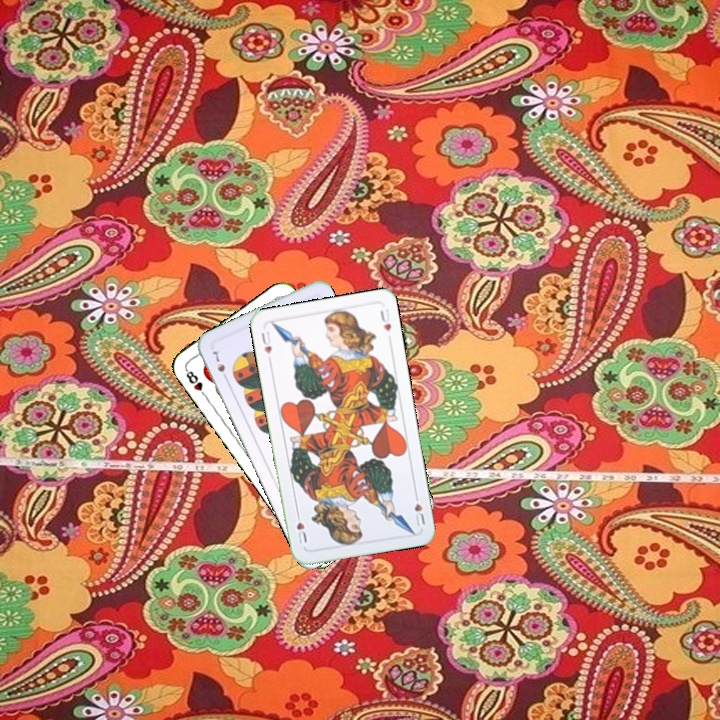H8: (181, 365, 210, 401)
HU: (410, 489, 428, 529), (257, 327, 274, 356)
S7: (208, 347, 230, 383)
